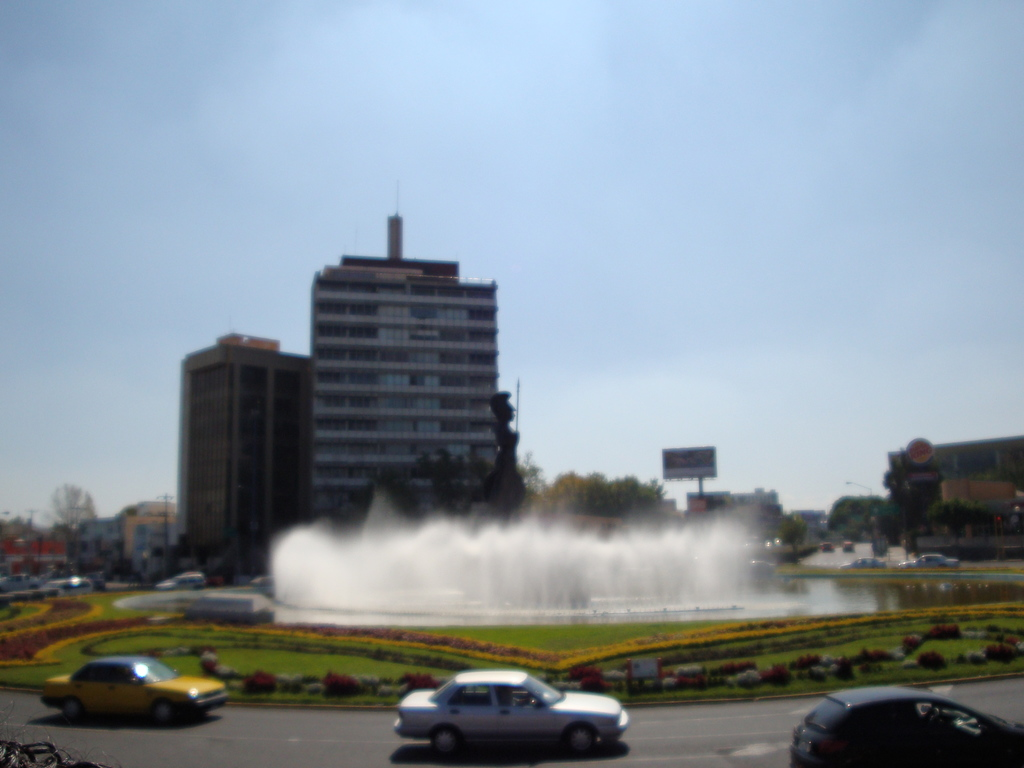Car: (790, 682, 1023, 767), (388, 678, 616, 763), (37, 650, 226, 723), (39, 573, 90, 598), (901, 550, 956, 571), (840, 554, 883, 571), (156, 573, 204, 588)
